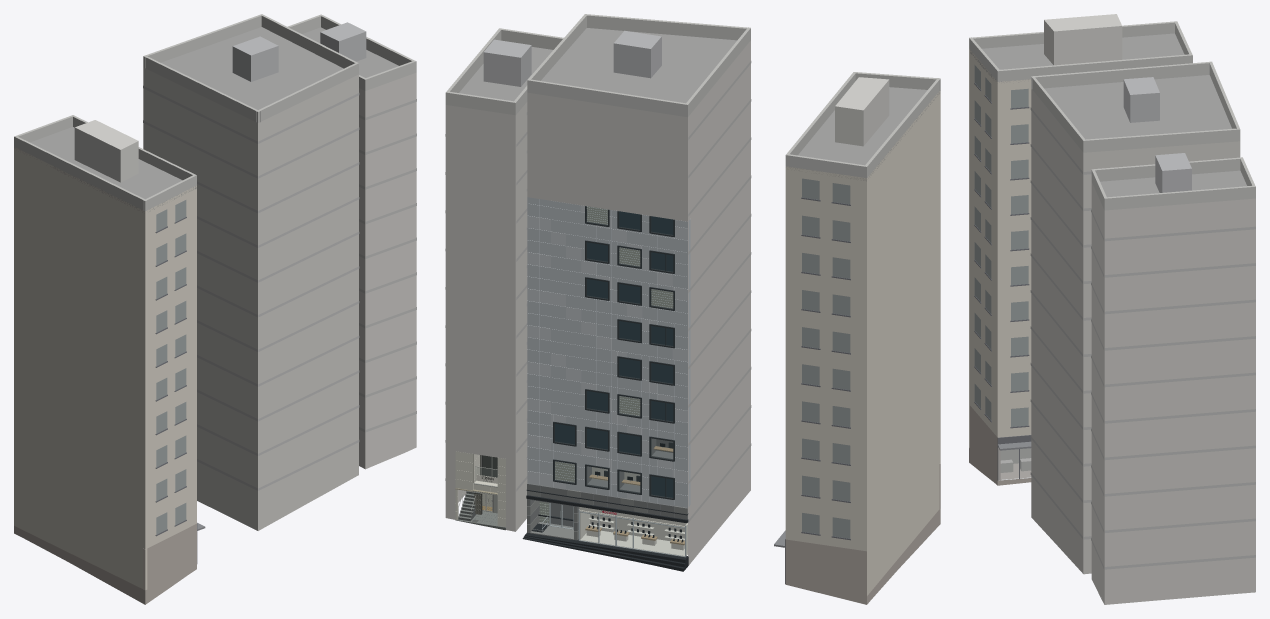
Rendered from d22-district-pack.glb.
3 views of the same model, side by side, from view 1: azimuth 30°, elevation 25°; view 2: azimuth 150°, elevation 25°; view 3: azimuth 270°, elevation 25° (orthographic). The views are drawn at different scales.
Visible parts, largest first — view 1: group0_d22_district_source_wall_palette_0, group1_glass; view 2: group0_d22_district_source_wall_palette_0, group1_glass, group13_d22_district_source_wall_palette_0, group15_LimitedUpperClearGlazing_ALPHA_NoTransmission; view 3: group0_d22_district_source_wall_palette_0, group1_glass, group2_clear.
Part boxes in pixels (bbox=[...]): group0_d22_district_source_wall_palette_0: bbox=[14, 14, 416, 604]; group1_glass: bbox=[156, 200, 186, 534]; group0_d22_district_source_wall_palette_0: bbox=[445, 14, 940, 604]; group1_glass: bbox=[802, 178, 850, 538]; group13_d22_district_source_wall_palette_0: bbox=[522, 490, 688, 571]; group15_LimitedUpperClearGlazing_ALPHA_NoTransmission: bbox=[587, 439, 672, 492]; group0_d22_district_source_wall_palette_0: bbox=[969, 14, 1255, 604]; group1_glass: bbox=[974, 65, 1028, 426]; group2_clear: bbox=[998, 448, 1030, 480].
Bounding box in the file's own units: 37.77 × 44.3 × 24.23.
Materials: 14 (2 with a texture image).
